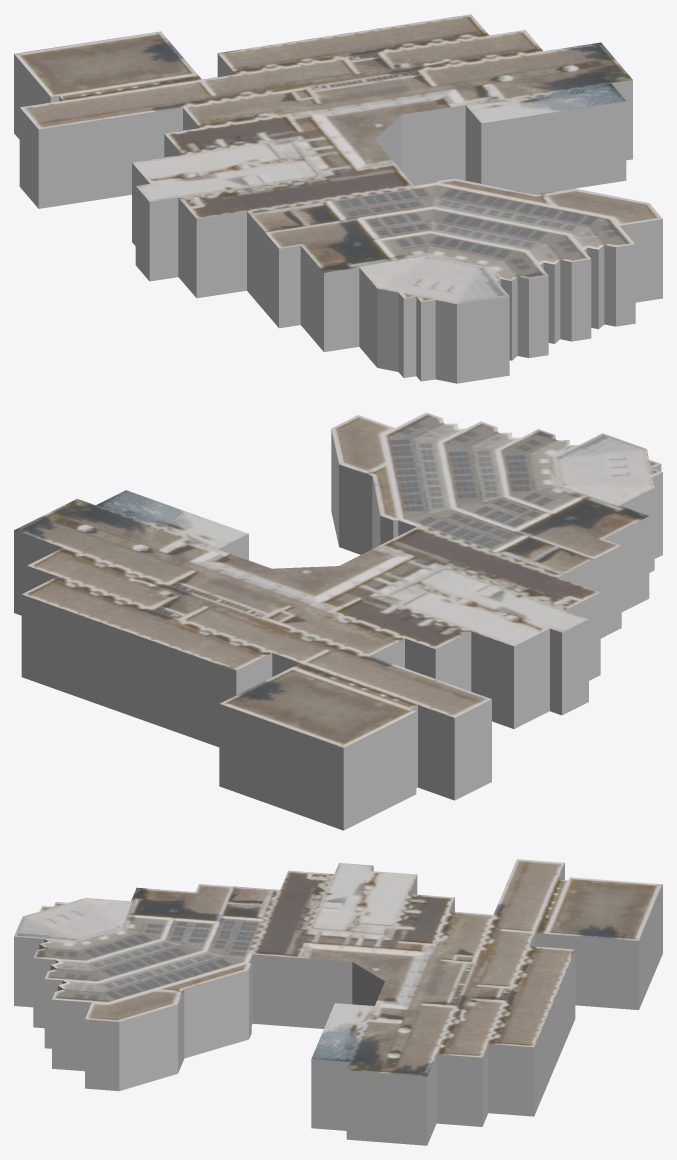
The model's file is DEBW_0010007TxhR.gltf.
The picture shows the model from 3 angles, top to bottom: view 1: azimuth 30°, elevation 25°; view 2: azimuth 150°, elevation 25°; view 3: azimuth 270°, elevation 25°; orthographic projection. The views are drawn at different scales.
Visible parts, largest first — view 1: Z_UP; view 2: Z_UP; view 3: Z_UP.
Boxes of the visible parts, box(x1,y1,x2,y2) form: Z_UP: box(14, 14, 662, 383); Z_UP: box(14, 412, 662, 830); Z_UP: box(14, 859, 662, 1145).
Size of the model in its own units: 92.5 by 13.75 by 117.
Materials: 2 (1 with a texture image).
